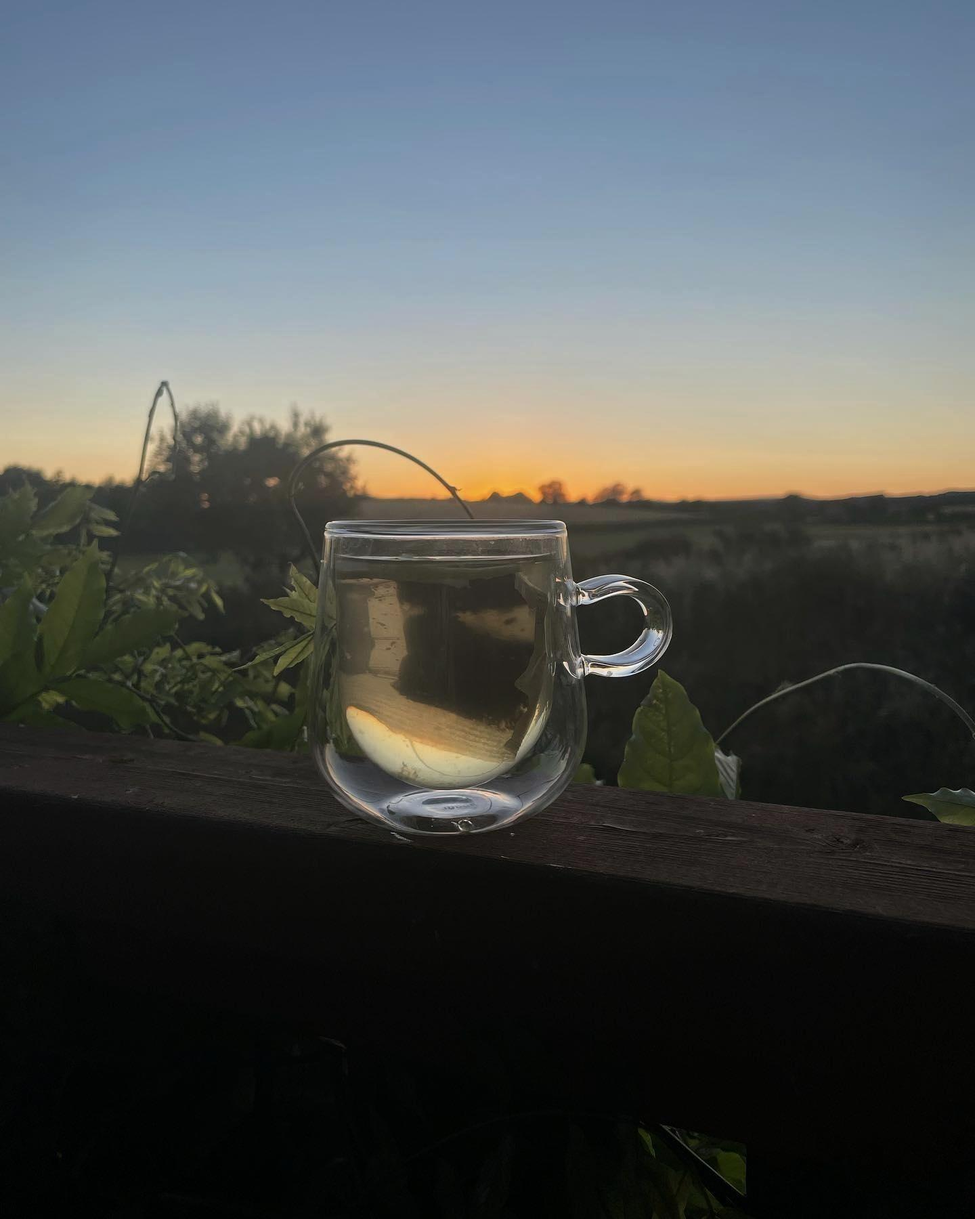glass-mug: (300, 507, 668, 854)
